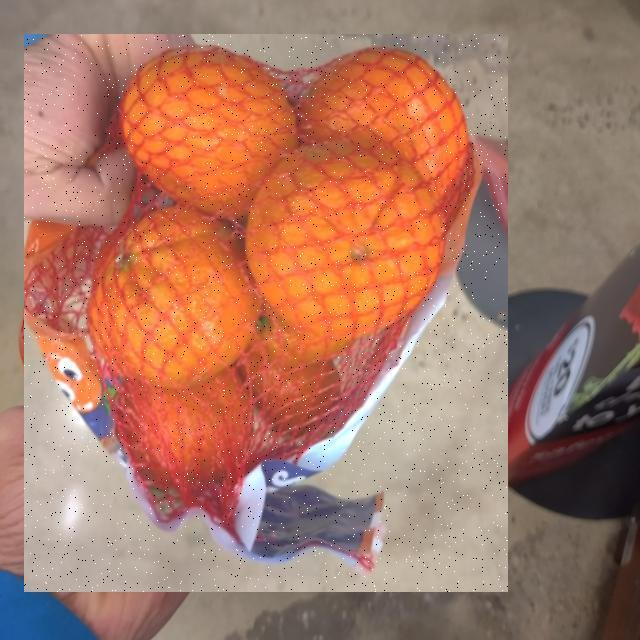Clementine: (24, 34, 508, 592)
